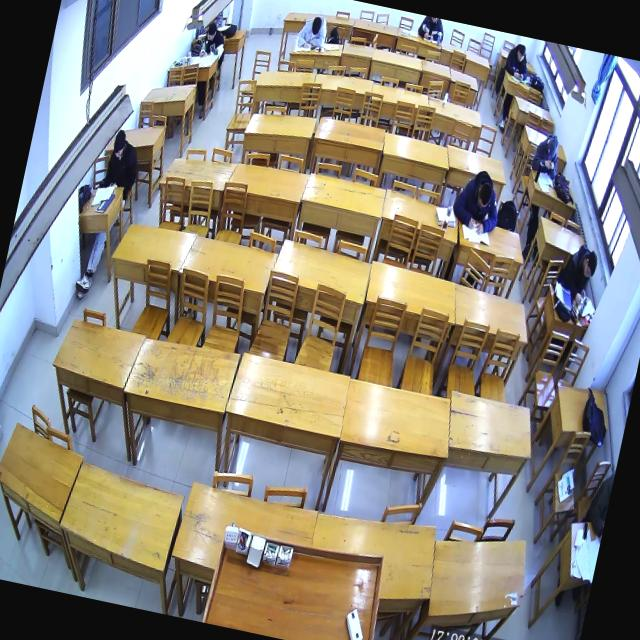bow: (293, 8, 332, 53)
down: (473, 180, 495, 212), (580, 249, 600, 284), (108, 128, 128, 160), (544, 132, 560, 160), (308, 14, 324, 38), (514, 42, 528, 64), (204, 21, 218, 42)
sit: (447, 165, 506, 238), (554, 239, 602, 307), (102, 126, 145, 194), (529, 130, 565, 180), (197, 20, 230, 63), (502, 40, 534, 83)
